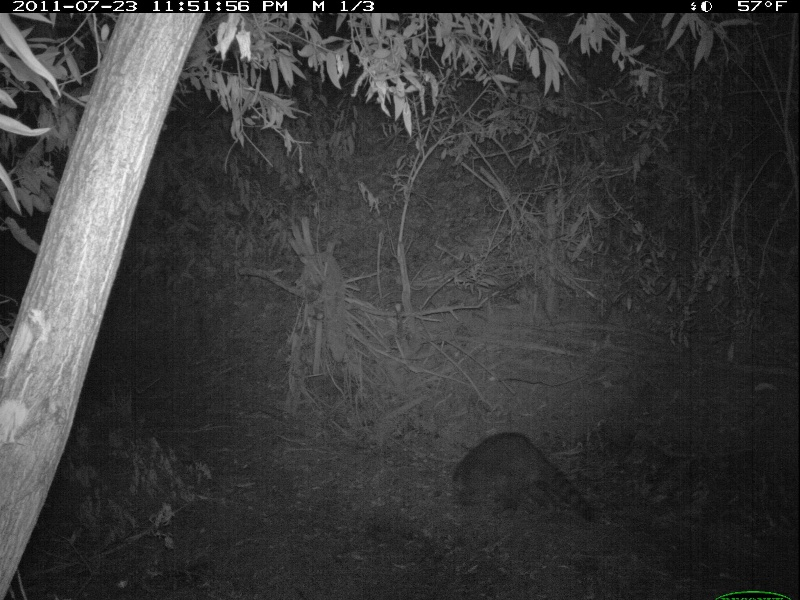raccoon: (450, 430, 599, 521)
